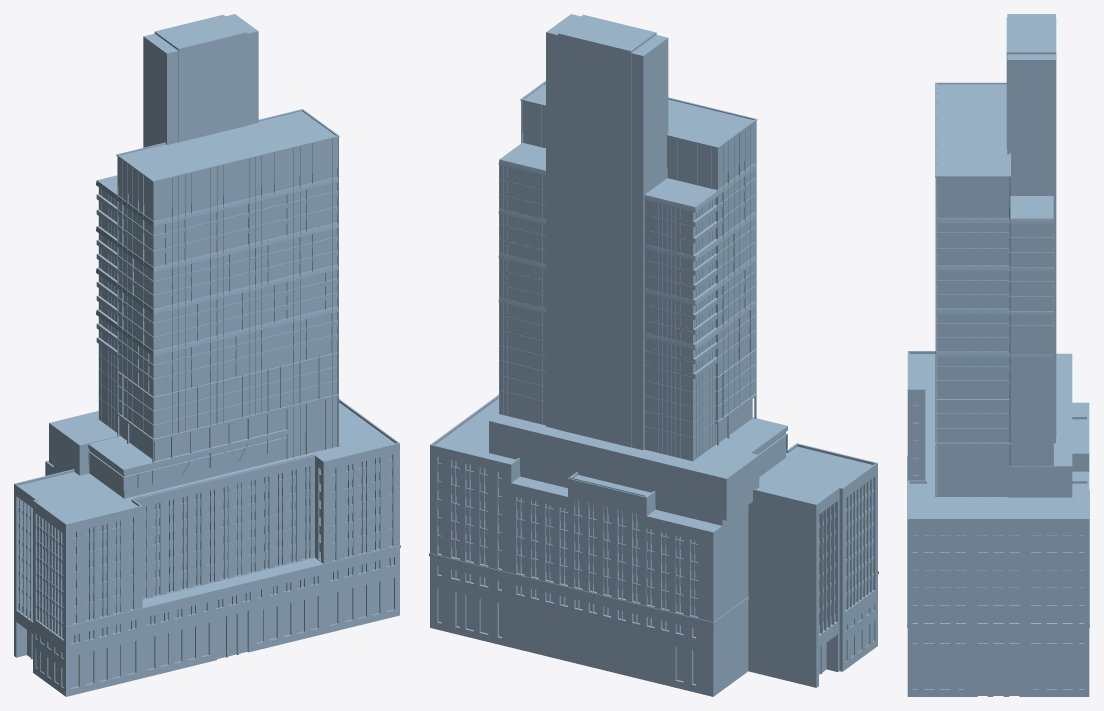
Rendered from one mad.glb.
The picture shows the model from 3 angles, left to right: view 1: azimuth 30°, elevation 25°; view 2: azimuth 150°, elevation 25°; view 3: azimuth 270°, elevation 25°; orthographic projection. The views are drawn at different scales.
Visible parts, largest first — view 1: one mad.obj; view 2: one mad.obj; view 3: one mad.obj.
Part boxes in pixels (<box>): one mad.obj: <box>14,14,400,696</box>; one mad.obj: <box>429,14,878,696</box>; one mad.obj: <box>907,14,1089,696</box>.
Size of the model in its own units: 137 by 223 by 62.57.
